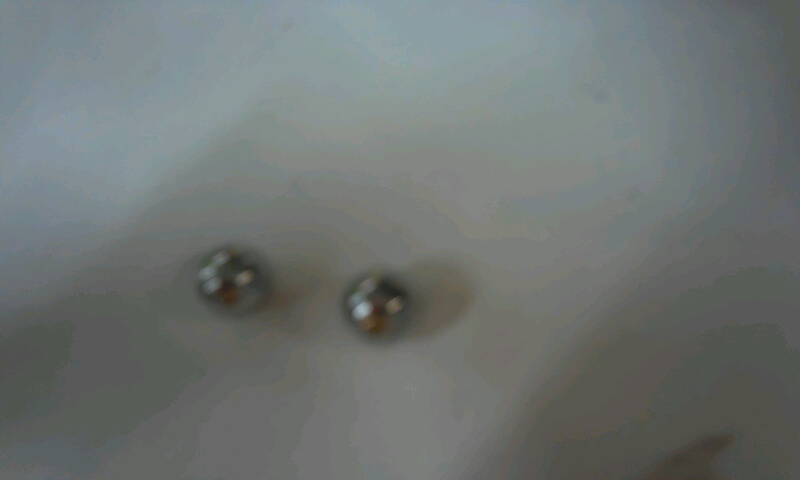steelball: (188, 234, 280, 326), (333, 261, 423, 353)
